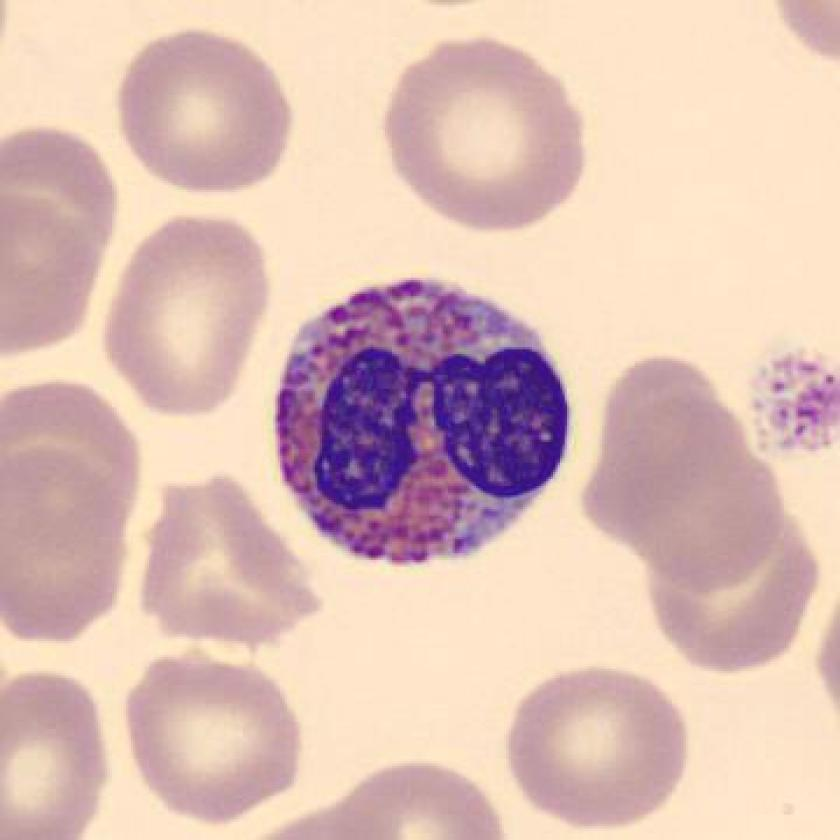eosinophil: (260, 265, 584, 582)
